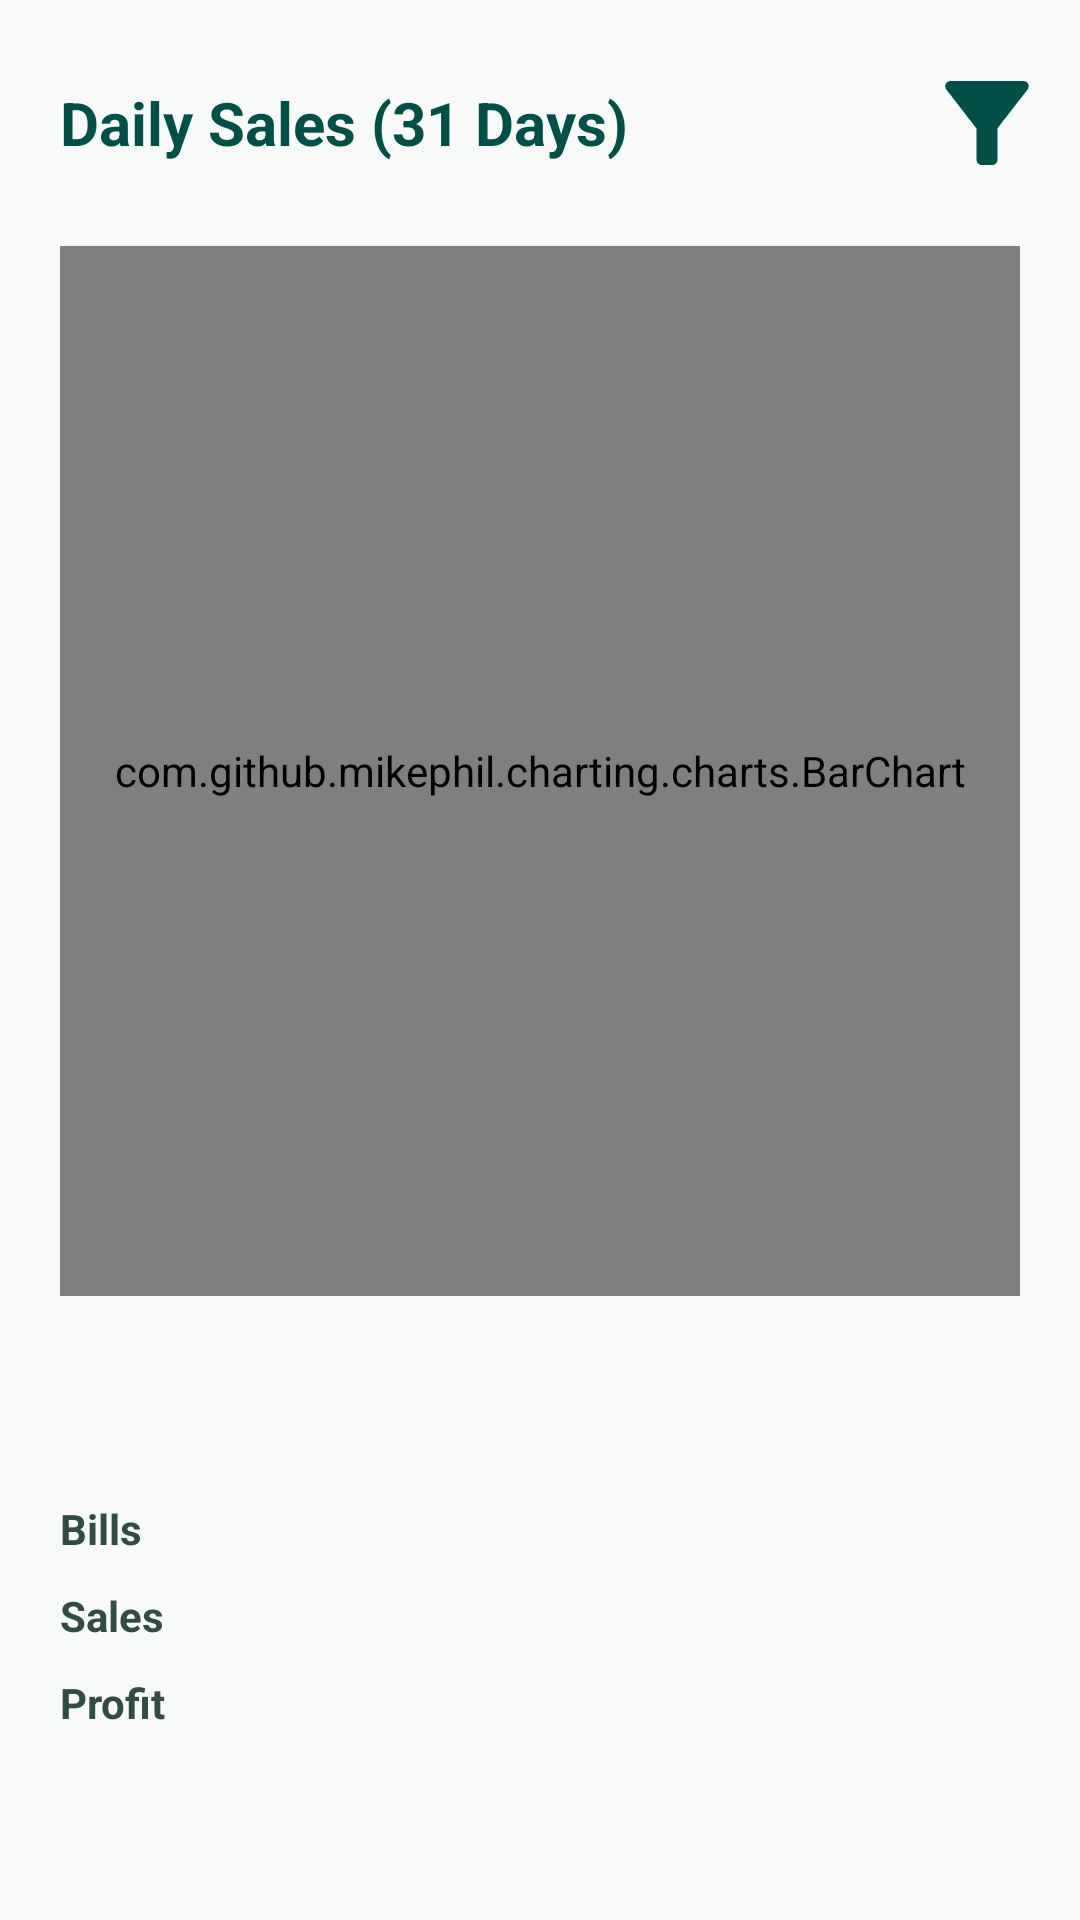

Named icons in this screenshot (1080w x 1920h) and their bounding boxes, (x1, y1, x2, y2):
filter: (945, 81, 1029, 165)
